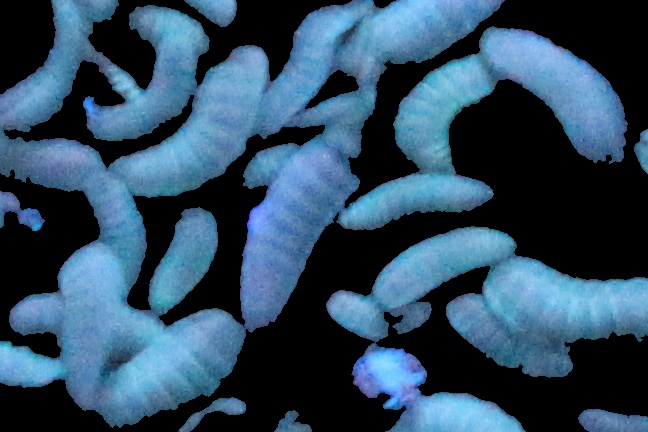larvae: (108, 45, 270, 197), (239, 140, 359, 329), (482, 28, 626, 166), (102, 309, 241, 426), (257, 1, 364, 136), (482, 255, 648, 338), (392, 56, 493, 174), (87, 35, 201, 138), (1, 1, 89, 131), (370, 225, 515, 303), (344, 1, 504, 69), (447, 291, 572, 376), (59, 242, 119, 411), (9, 294, 166, 350), (337, 175, 492, 230), (147, 206, 220, 310), (79, 170, 147, 279), (1, 134, 106, 189), (397, 392, 538, 432), (129, 4, 211, 57), (1, 338, 65, 390), (324, 290, 386, 338), (295, 91, 370, 130), (240, 146, 302, 188)
